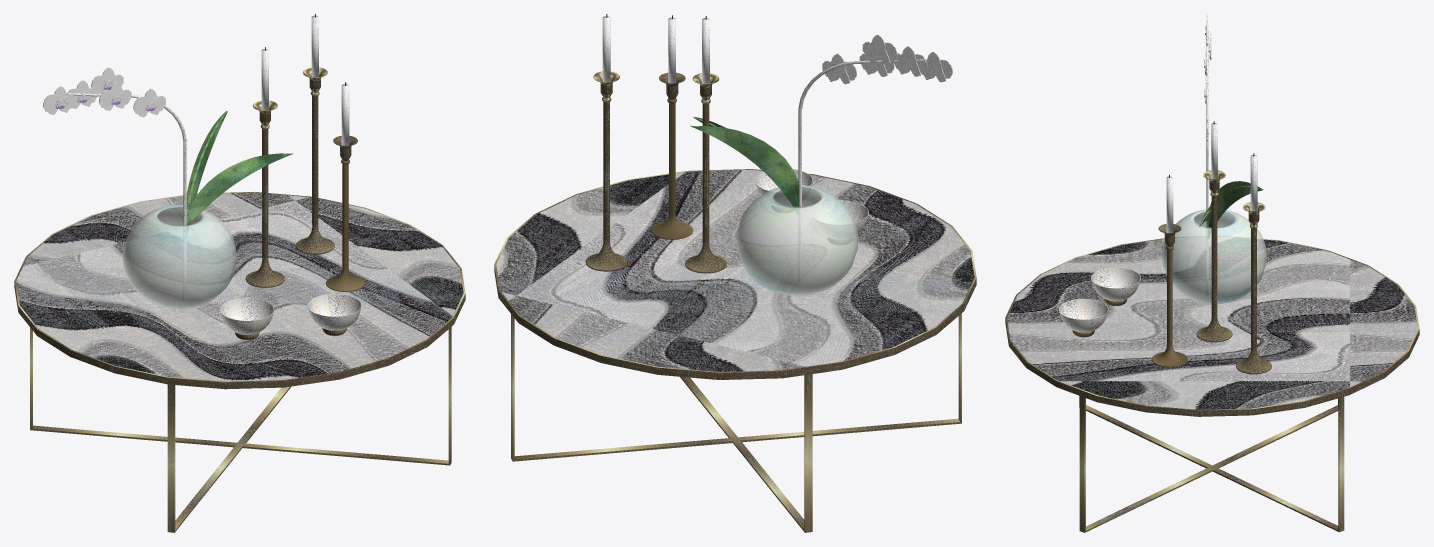
File: coffeeTable.dae
The picture shows the model from 3 angles, left to right: view 1: azimuth 30°, elevation 25°; view 2: azimuth 150°, elevation 25°; view 3: azimuth 270°, elevation 25°; orthographic projection. The views are drawn at different scales.
Visible parts, largest first — view 1: Group_1, group_7 (×2), Group_3 (×2), Group_2, Group_8 (×2), Group_6 (×4), group_10, group_5, group_13, group_8, Group_9; view 2: Group_1, group_7 (×2), Group_3 (×2), Group_2, Group_8 (×2), group_13, Group_6 (×2), group_5, group_8, Group_9; view 3: Group_1, group_7 (×2), Group_3 (×2), Group_2, Group_8 (×2), Group_6 (×4), group_5, group_13, group_8.
Boxes of the visible parts, x1=… form: Group_1: x1=16, y1=192, x2=463, y2=381; group_7 (×2): x1=122, y1=205, x2=236, y2=308; Group_3 (×2): x1=30, y1=327, x2=451, y2=532; Group_2: x1=14, y1=191, x2=465, y2=389; Group_8 (×2): x1=245, y1=67, x2=334, y2=287; Group_6 (×4): x1=220, y1=294, x2=361, y2=334; group_10: x1=186, y1=153, x2=293, y2=227; group_5: x1=326, y1=164, x2=365, y2=291; group_13: x1=186, y1=111, x2=227, y2=233; group_8: x1=68, y1=93, x2=186, y2=301; Group_9: x1=341, y1=84, x2=349, y2=145; Group_1: x1=496, y1=170, x2=974, y2=371; group_7 (×2): x1=736, y1=185, x2=858, y2=295; Group_3 (×2): x1=511, y1=313, x2=961, y2=532; Group_2: x1=494, y1=169, x2=976, y2=379; Group_8 (×2): x1=585, y1=71, x2=726, y2=273; group_13: x1=690, y1=125, x2=799, y2=213; Group_6 (×2): x1=812, y1=200, x2=868, y2=239; group_5: x1=651, y1=103, x2=693, y2=239; group_8: x1=798, y1=59, x2=925, y2=282; Group_9: x1=602, y1=16, x2=610, y2=81; Group_1: x1=1007, y1=236, x2=1417, y2=409; group_7 (×2): x1=1162, y1=209, x2=1266, y2=303; Group_3 (×2): x1=1079, y1=396, x2=1344, y2=532; Group_2: x1=1005, y1=236, x2=1419, y2=416; Group_8 (×2): x1=1196, y1=170, x2=1271, y2=374; Group_6 (×4): x1=1059, y1=267, x2=1140, y2=332; group_5: x1=1151, y1=250, x2=1187, y2=367; group_13: x1=1208, y1=181, x2=1263, y2=238; group_8: x1=1206, y1=25, x2=1208, y2=295.
Size of the model in its own units: 48.1 by 47.54 by 47.88.
